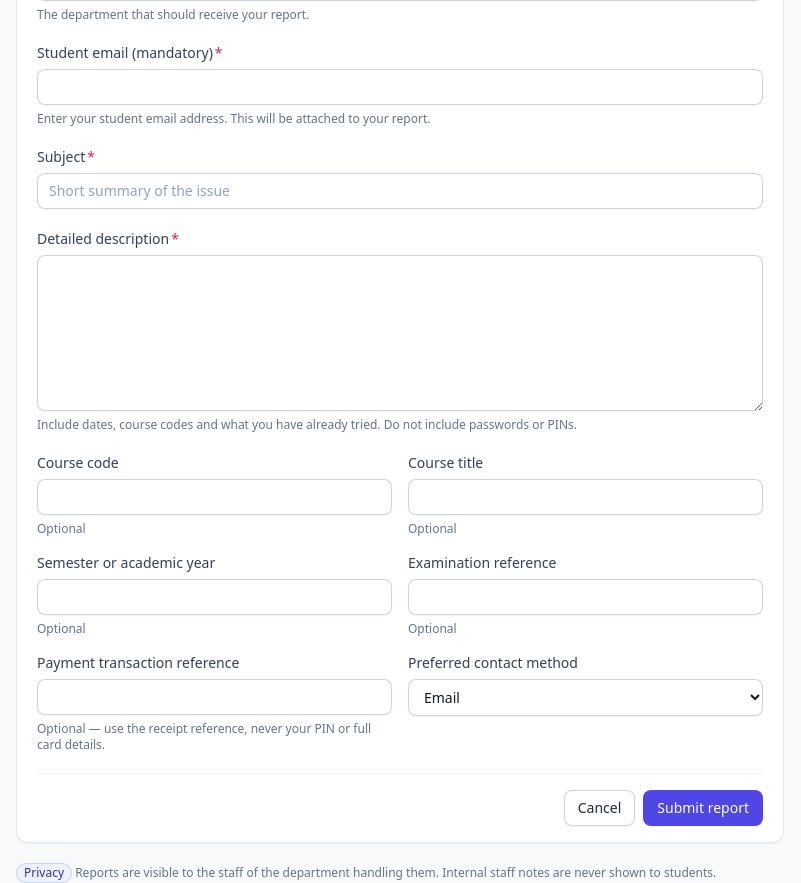
Test: NewTicketPage › blocks submission until the required fields are valid
The width and height of the screenshot is (801, 883).
(page scrolled)
Click the button "Submit report": (703, 808) [643,790,763,826]
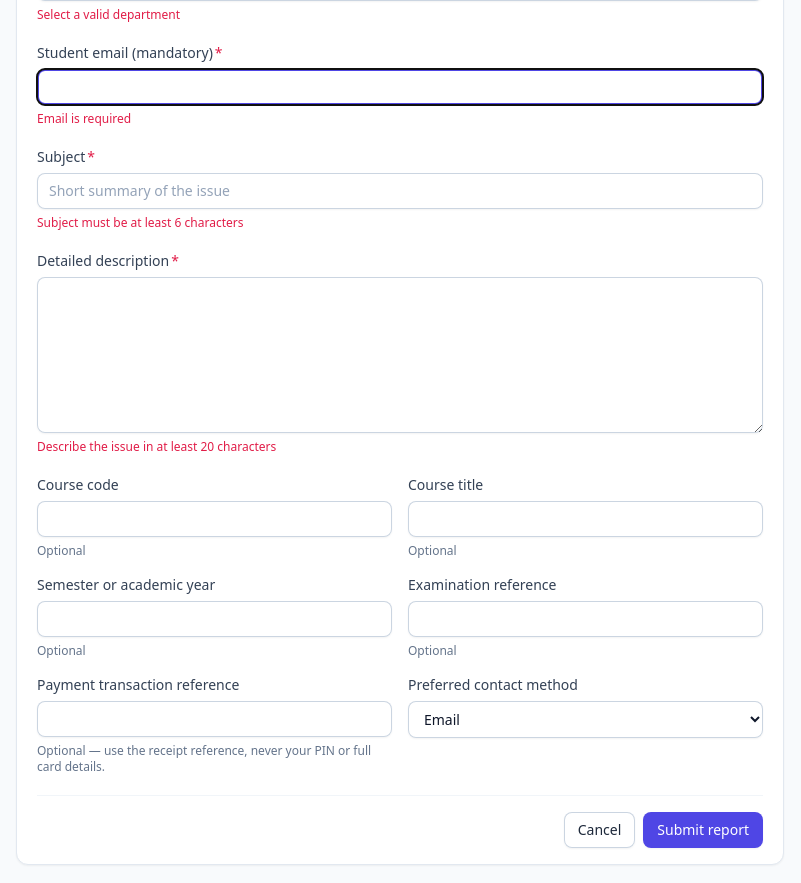
Expected: the text "Subject must be at least 6 characters" is shown, [37,214,244,231]
Expected: the text "Describe the issue in at least 20 characters" is shown, [37,438,276,455]
